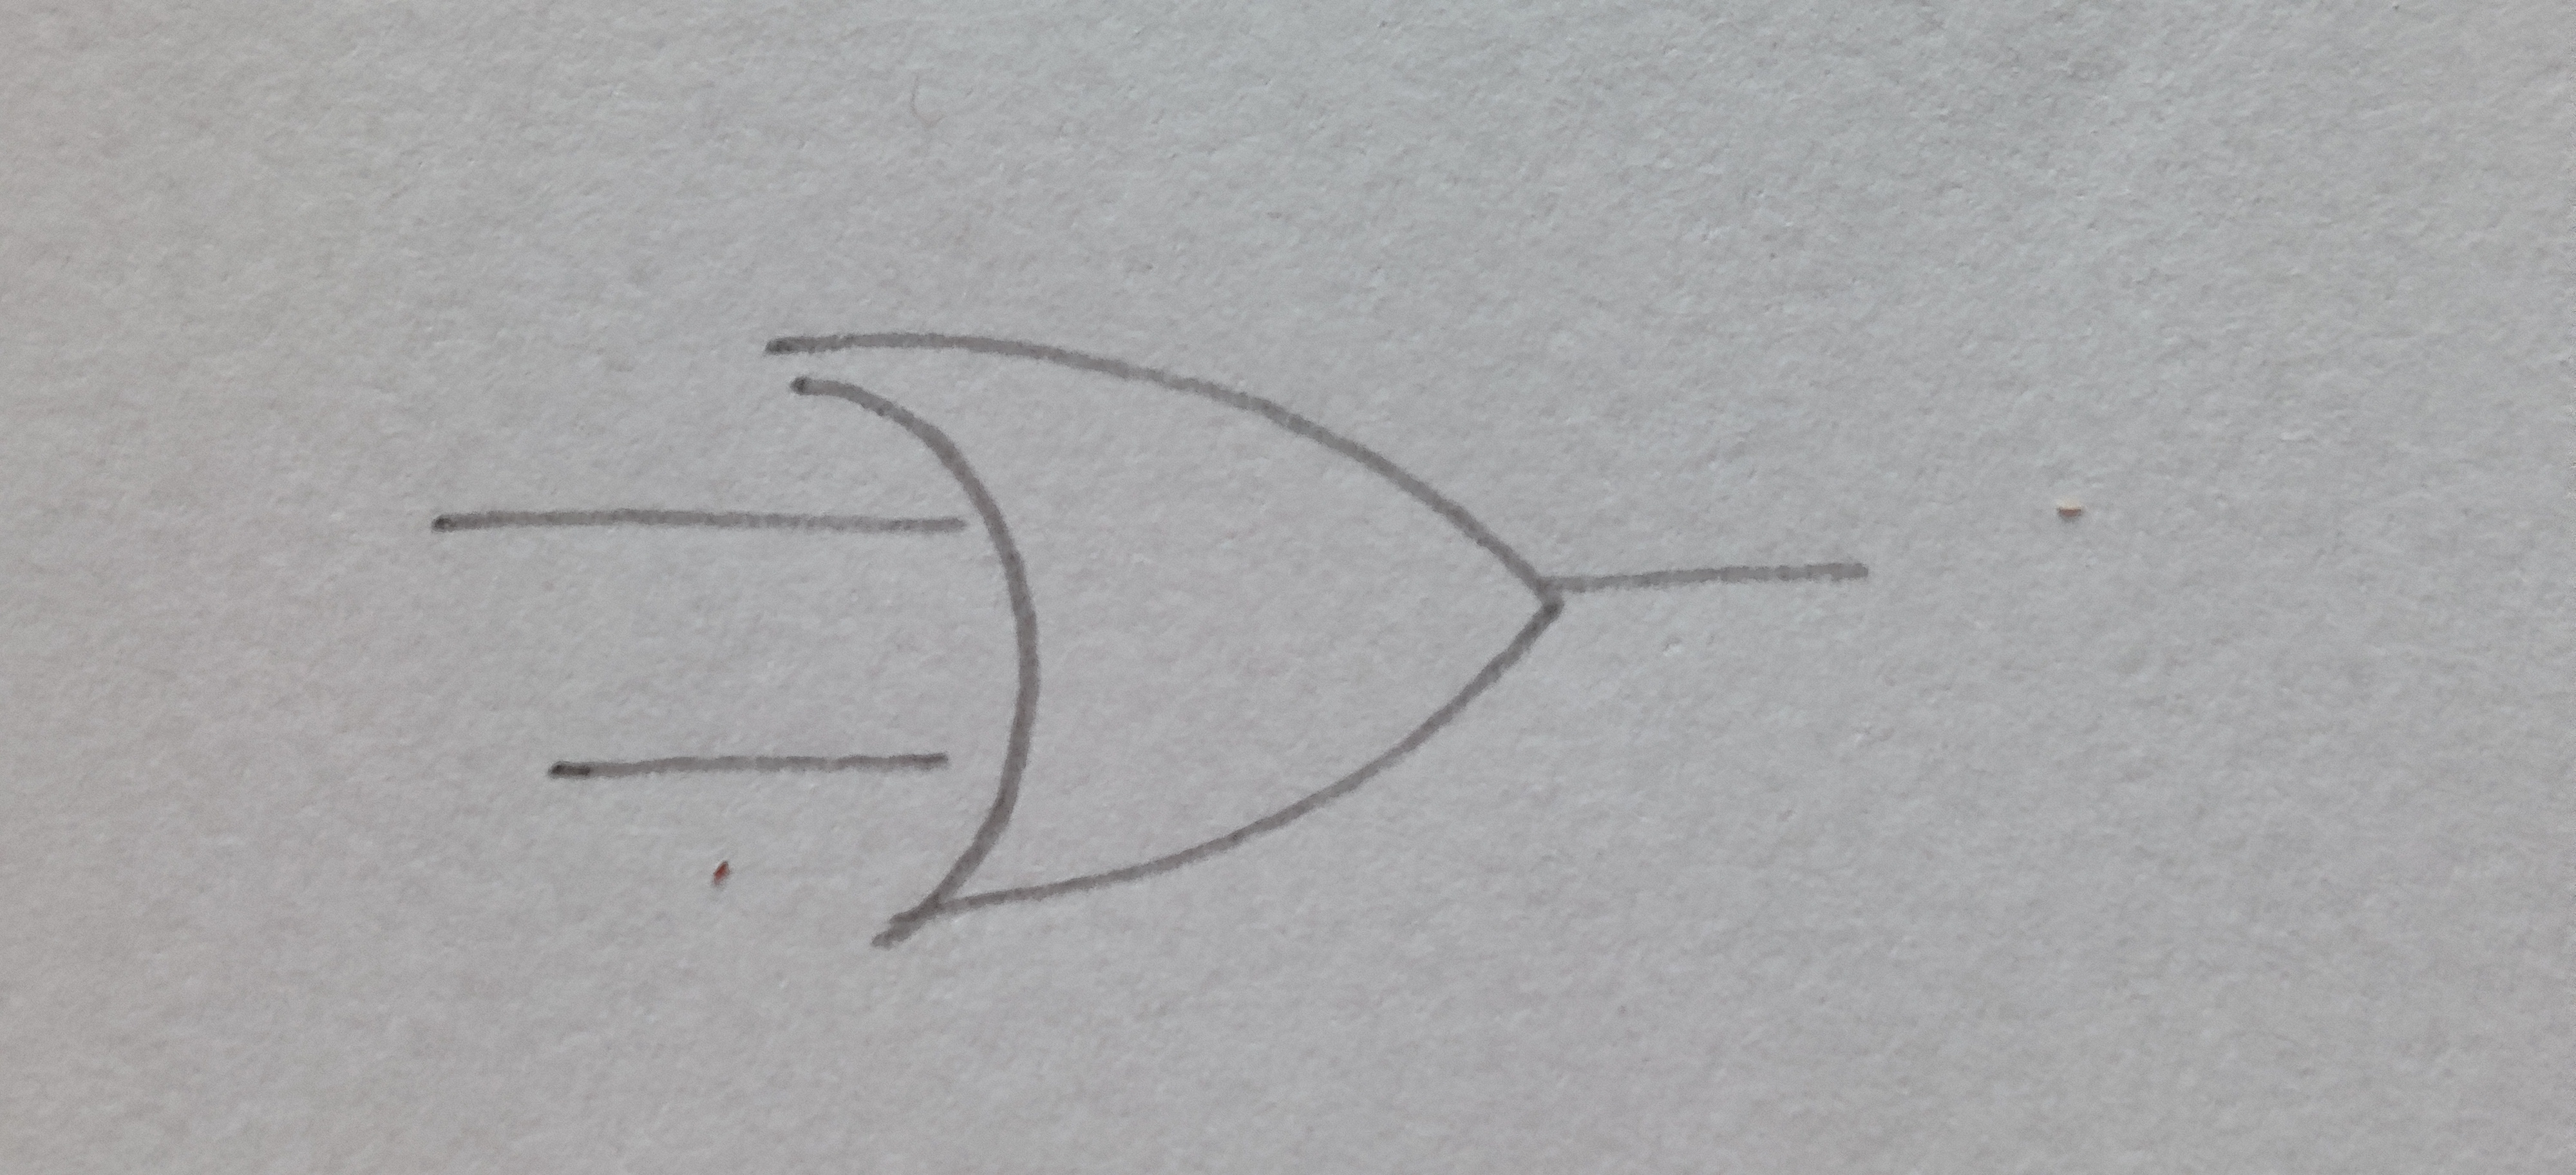or: (777, 330, 1566, 920)
